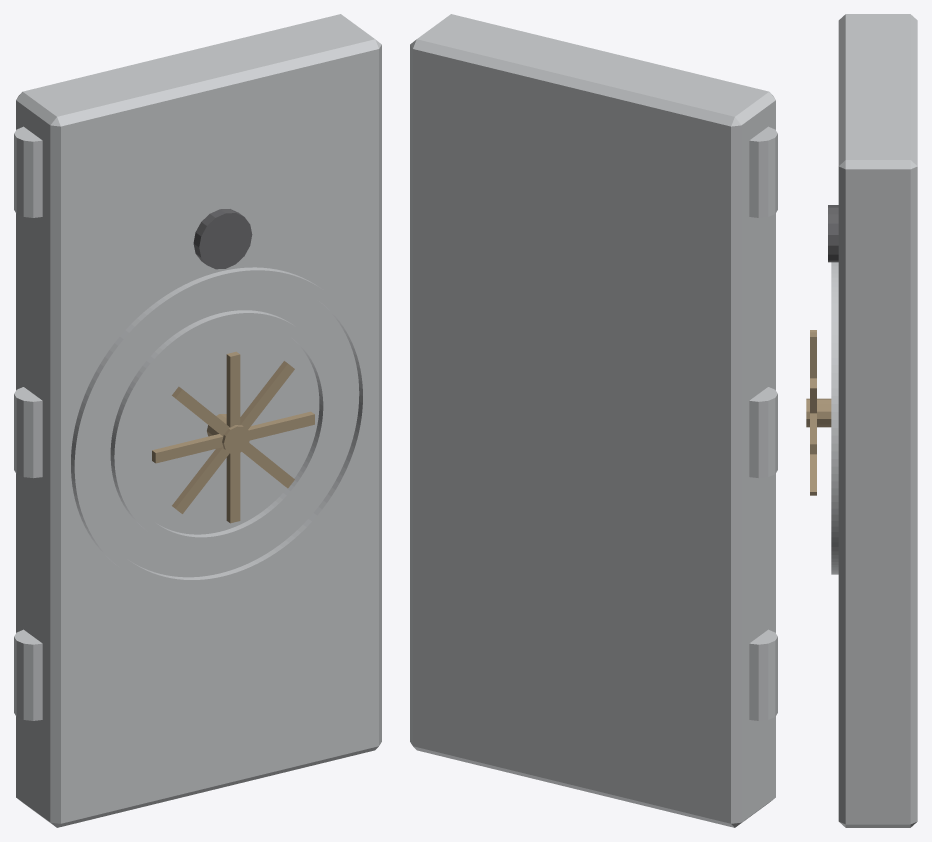
Rendered from vault_door.glb.
The picture shows the model from 3 angles, left to right: view 1: azimuth 30°, elevation 25°; view 2: azimuth 150°, elevation 25°; view 3: azimuth 270°, elevation 25°; orthographic projection. The views are drawn at different scales.
Visible parts, largest first — view 1: vault_door_steel, vault_door_bronze, vault_door_dark; view 2: vault_door_steel; view 3: vault_door_steel, vault_door_bronze, vault_door_dark.
Part boxes in pixels (x1,y1,x2,y2): vault_door_steel: (14, 14, 381, 827); vault_door_bronze: (152, 351, 314, 523); vault_door_dark: (193, 209, 252, 269); vault_door_steel: (410, 14, 777, 827); vault_door_steel: (831, 14, 917, 827); vault_door_bronze: (806, 330, 831, 495); vault_door_dark: (828, 205, 838, 262).
Size of the model in its own units: 1.05 by 2.05 by 0.31.
